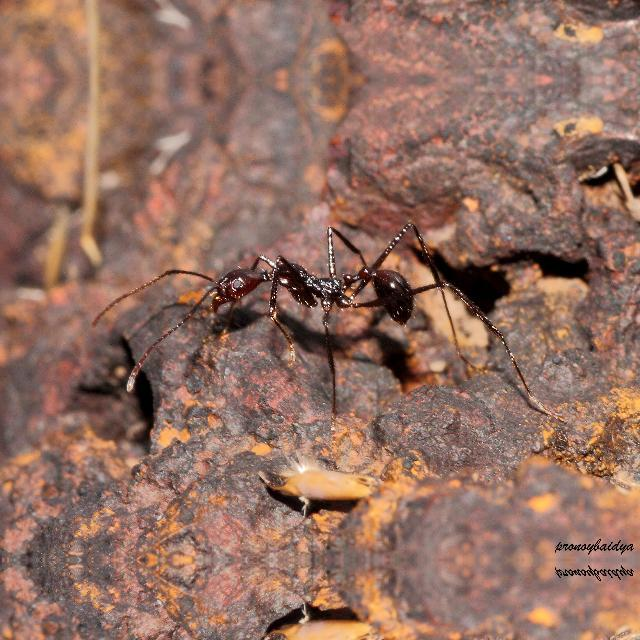Apheanogaster: (180, 228, 444, 344), (548, 534, 636, 558), (548, 560, 636, 584)
